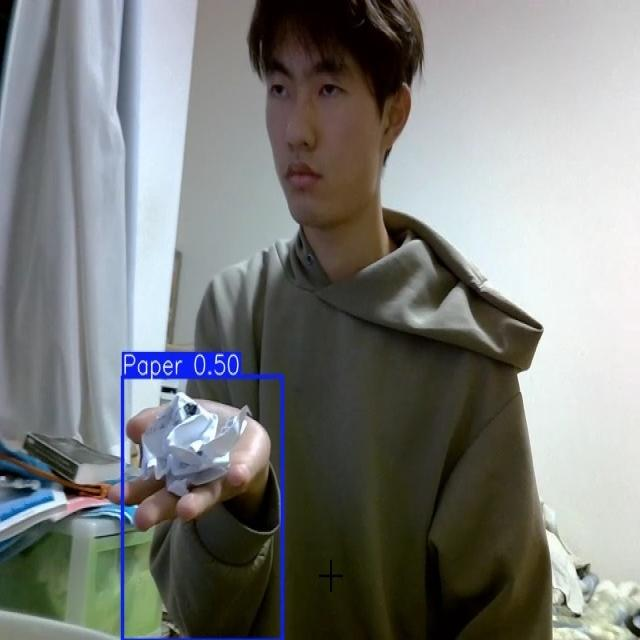paper: (140, 391, 252, 497)
